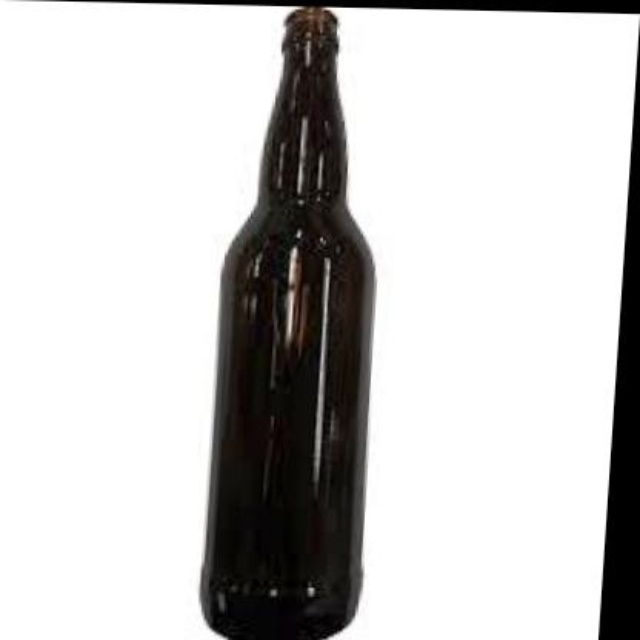trash: (202, 8, 374, 638)
